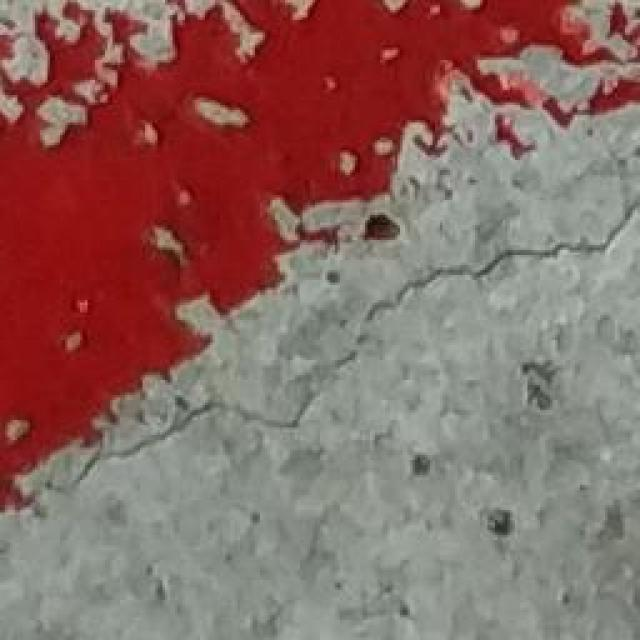Diagonal: (2, 182, 640, 574)
Rippled: (2, 0, 640, 196)
